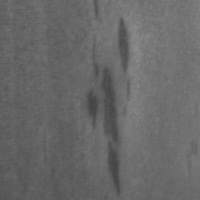inclusion: (85, 35, 124, 198), (112, 15, 135, 104), (82, 86, 103, 133), (176, 139, 198, 179), (89, 1, 101, 24)
